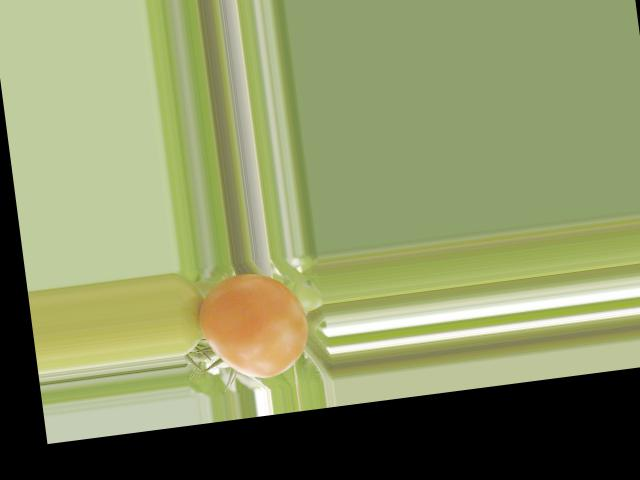tomato: (194, 266, 313, 385)
